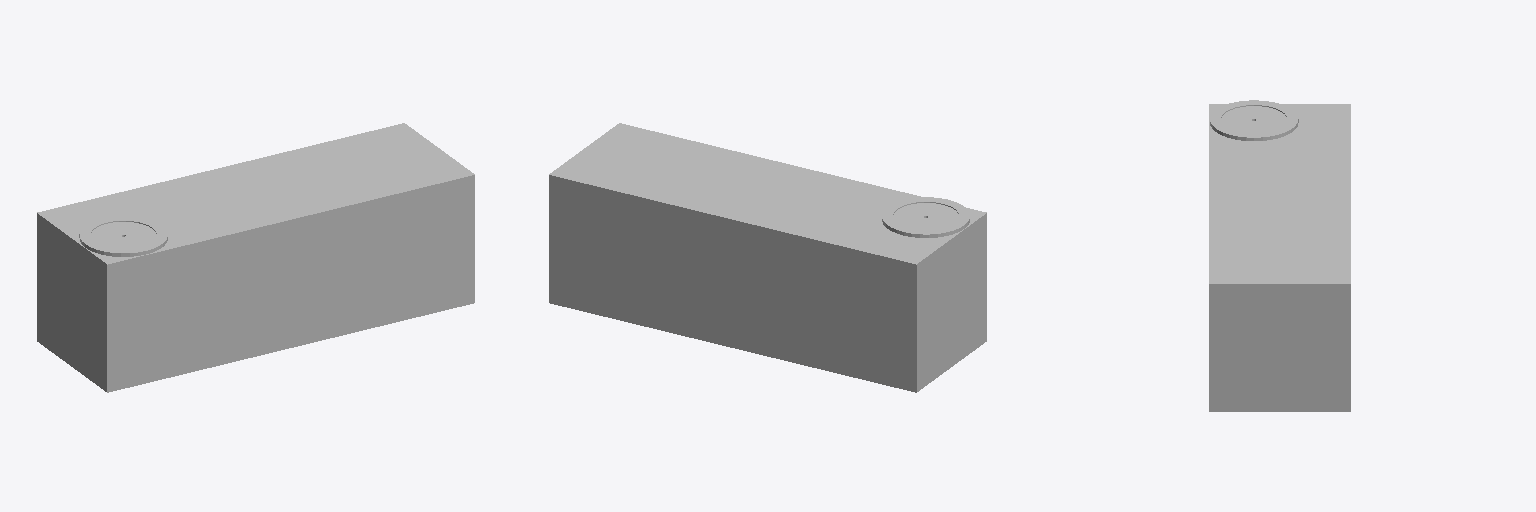
File: sol_gauche.obj
3 renders of one model, left to right at view 1: azimuth 30°, elevation 25°; view 2: azimuth 150°, elevation 25°; view 3: azimuth 270°, elevation 25°, orthographic.
Parts seen in each view (by area): view 1: Cube; view 2: Cube; view 3: Cube.
Part boxes in pixels (bbox=[...]): Cube: bbox=[37, 123, 474, 392]; Cube: bbox=[549, 123, 986, 392]; Cube: bbox=[1209, 100, 1350, 411].
Bounding box in the file's own units: 3 × 1.03 × 1.